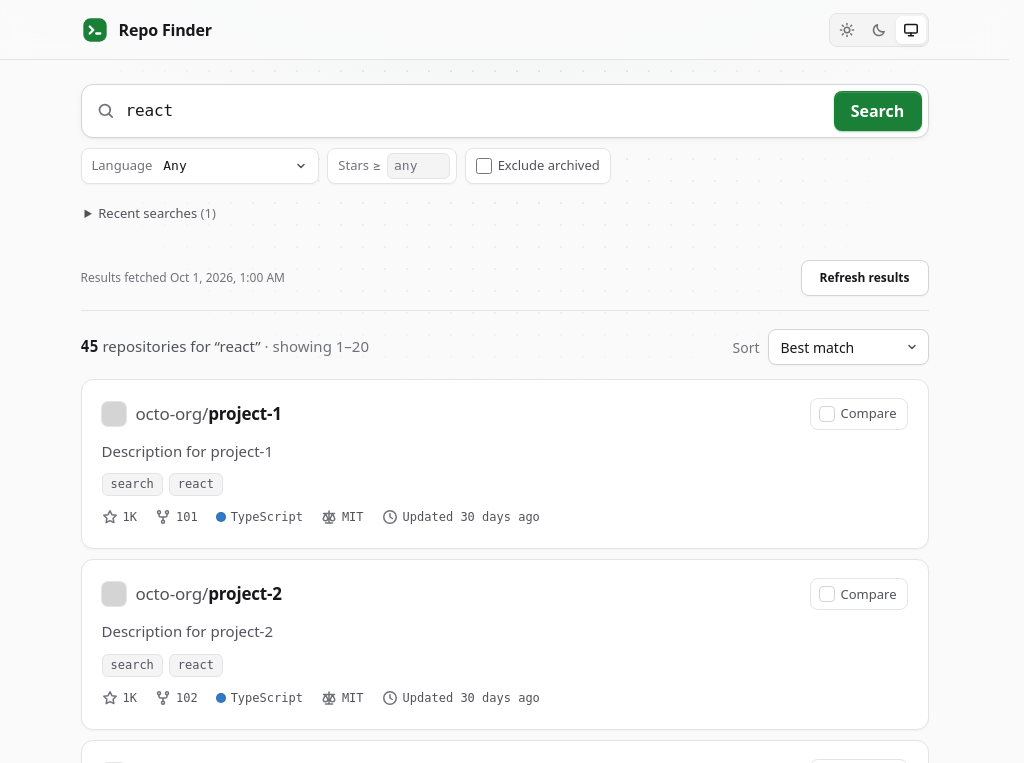
Scenario: compare selection › keeps selections across pages and treats a repeated repository as one selection
Expected: the heading "45 repositories for “react” · showing 1–20" is shown, [80,335,369,359]
Click the 1st checkbox labelled "Compare" at (858, 414), box [810,398,908,430]
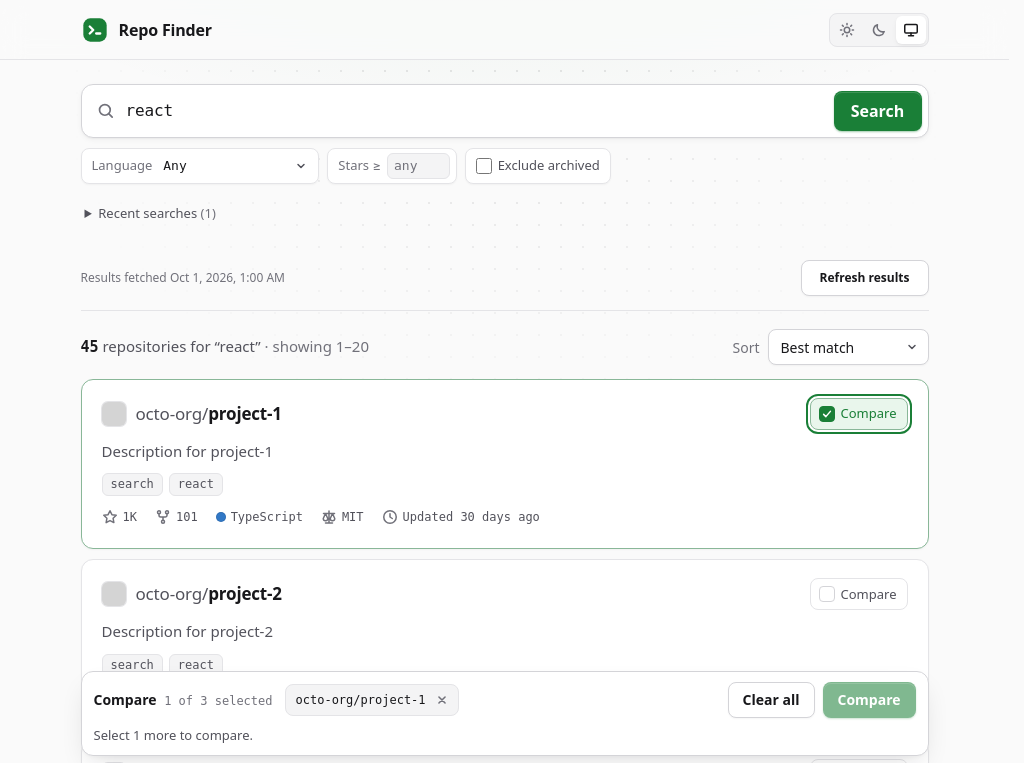
Click the 2nd checkbox labelled "Compare" at (858, 594), box [810,578,908,610]
(page scrolled)
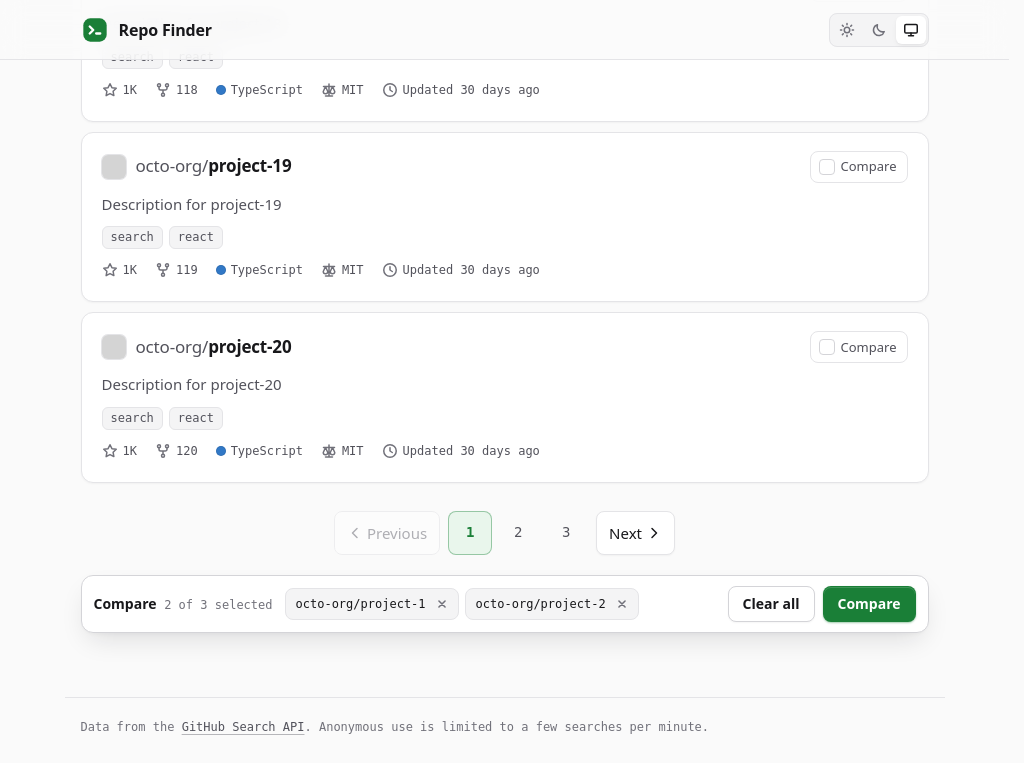
Expected: the element that starts with "Compare" shows "2 of 3 selected", [164,598,272,612]
Click the link named "Page 2" at (518, 532), box [514,524,522,540]
(page scrolled)
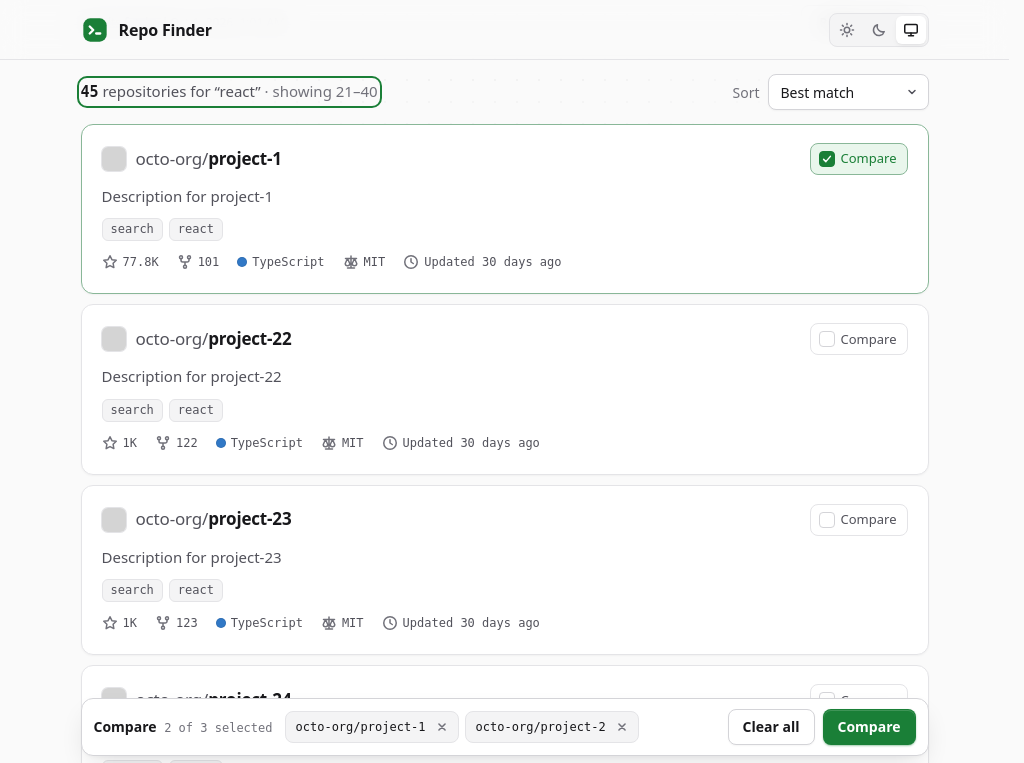
Expected: the heading "45 repositories for “react” · showing 21–40" is shown, [80,80,378,104]
Click the 2nd checkbox labelled "Compare" at (858, 339), box [810,323,908,355]
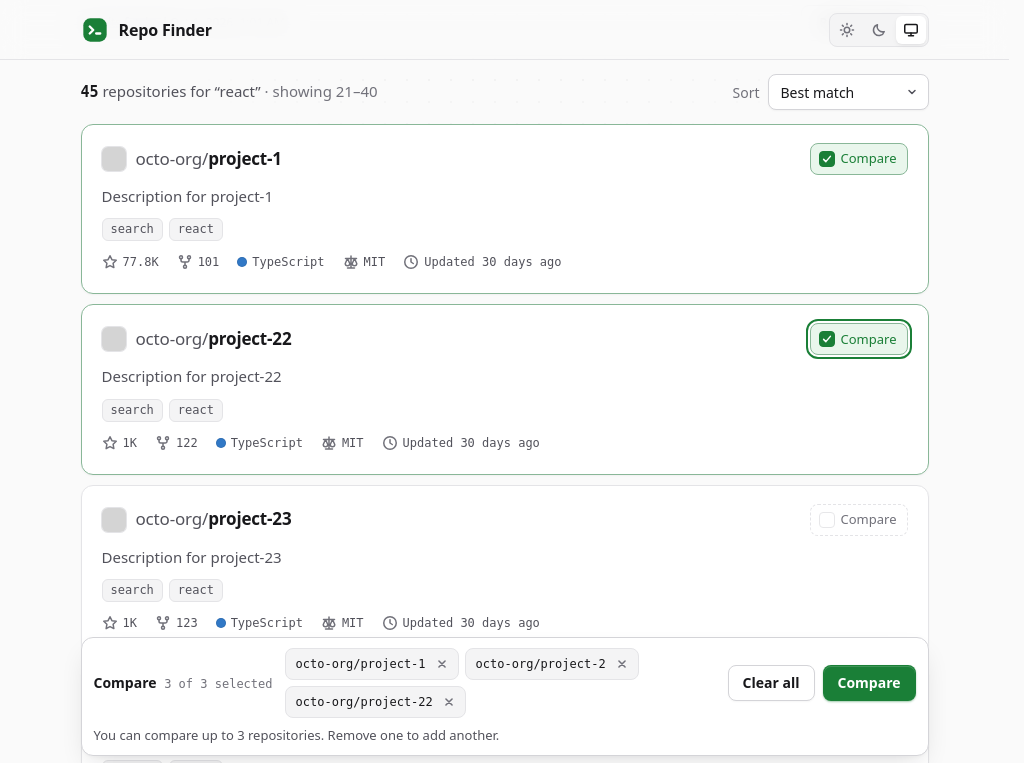
Expected: the element that starts with "Compare" shows "3 of 3 selected", [164,677,272,691]
Note: The newer page 2 response refreshed the stored snapshot.
Click the button named "Compare selected repositories" at (869, 682), box [822,664,916,700]
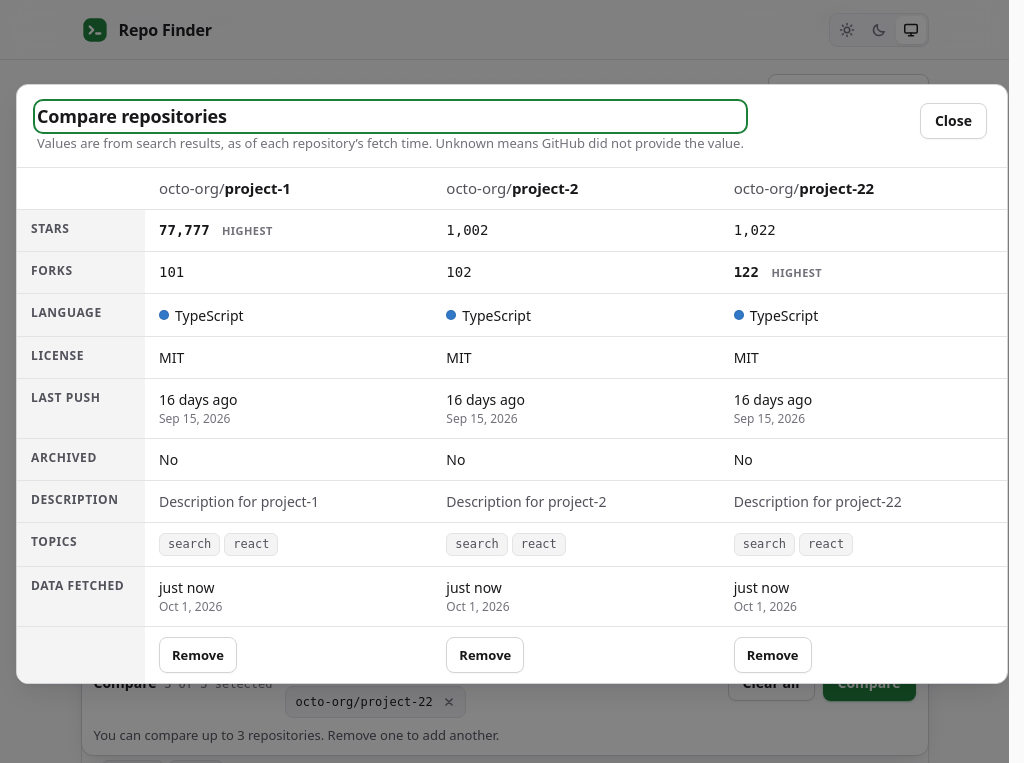
Expected: the row "Stars 77,777 Highest 1,002 1,022" is shown, [17,210,1007,252]
